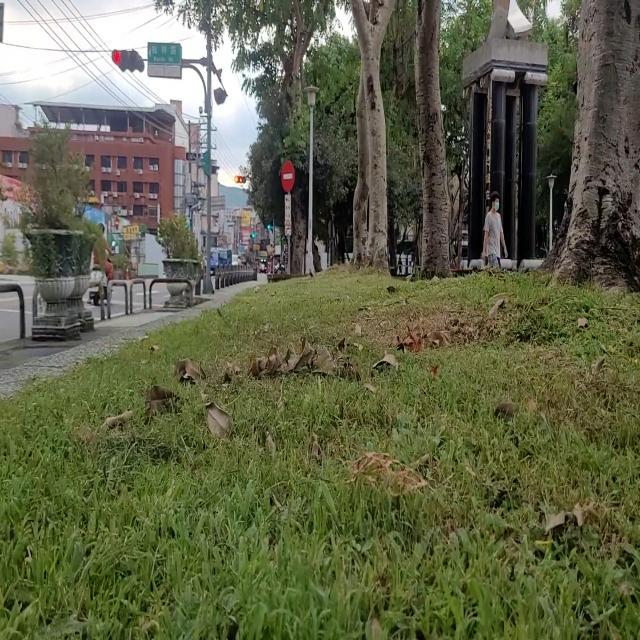Tree: (541, 1, 640, 296), (351, 1, 396, 280), (413, 1, 453, 276)
